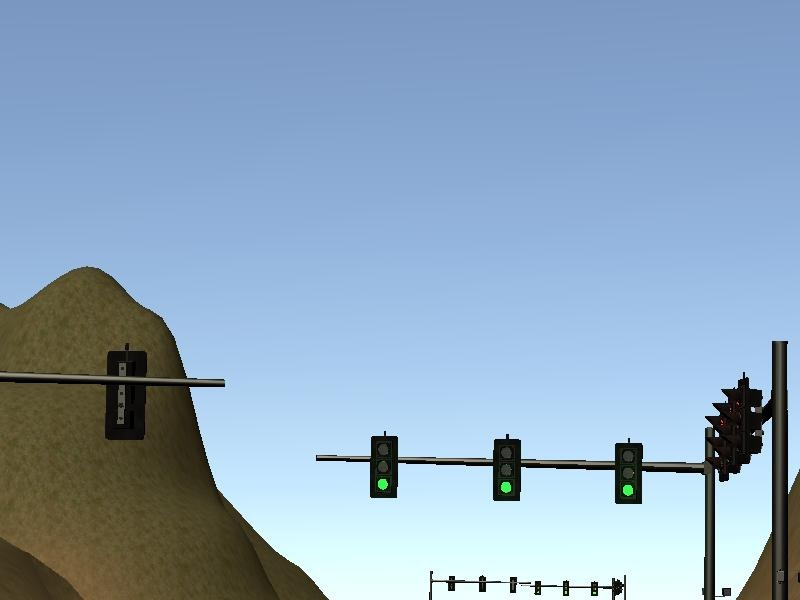traffic_light_green: (325, 428, 706, 509)
